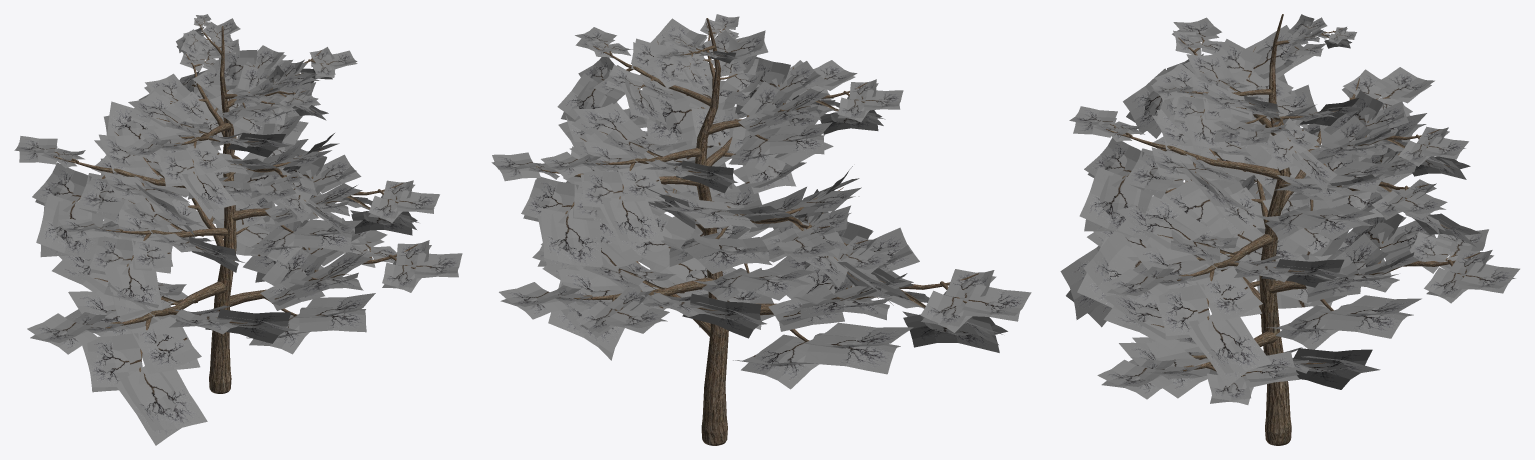
The model's file is tree1.fbx.
The picture shows the model from 3 angles, left to right: view 1: azimuth 30°, elevation 25°; view 2: azimuth 150°, elevation 25°; view 3: azimuth 270°, elevation 25°; orthographic projection. The views are drawn at different scales.
Visible parts, largest first — view 1: tree; view 2: tree; view 3: tree.
Boxes of the visible parts, <box> form: tree: <box>14,14,462,445</box>; tree: <box>491,14,1031,445</box>; tree: <box>1060,14,1519,445</box>.
Size of the model in its own units: 46.61 by 39.55 by 38.28.
